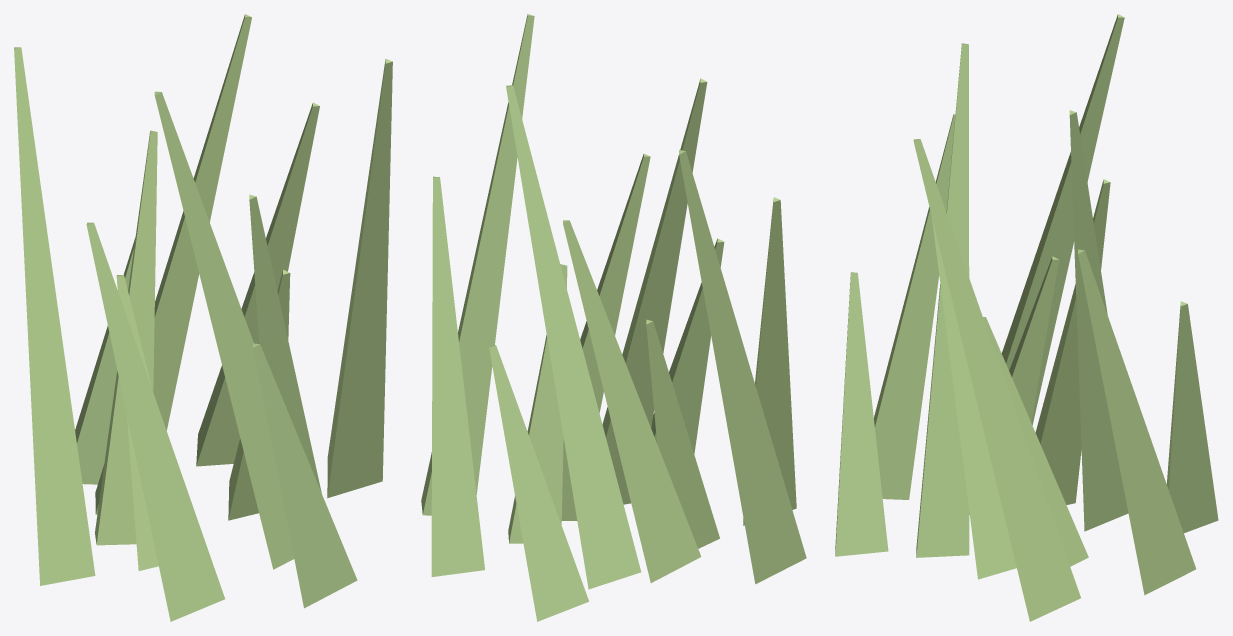
The model's file is 18_Grass_Short.glb.
The picture shows the model from 3 angles, left to right: view 1: azimuth 30°, elevation 25°; view 2: azimuth 150°, elevation 25°; view 3: azimuth 270°, elevation 25°; orthographic projection. The views are drawn at different scales.
Parts seen in each view (by area): view 1: GrassShort_Blade6, GrassShort_Blade12, GrassShort_Blade8, GrassShort_Blade9, GrassShort_Blade3, GrassShort_Blade10, GrassShort_Blade5, GrassShort_Blade2, GrassShort_Blade11, GrassShort_Blade4, GrassShort_Blade7, GrassShort_Blade1; view 2: GrassShort_Blade3, GrassShort_Blade6, GrassShort_Blade2, GrassShort_Blade5, GrassShort_Blade12, GrassShort_Blade4, GrassShort_Blade9, GrassShort_Blade8, GrassShort_Blade7, GrassShort_Blade11, GrassShort_Blade1, GrassShort_Blade10; view 3: GrassShort_Blade12, GrassShort_Blade9, GrassShort_Blade2, GrassShort_Blade8, GrassShort_Blade3, GrassShort_Blade10, GrassShort_Blade11, GrassShort_Blade6, GrassShort_Blade4, GrassShort_Blade5, GrassShort_Blade1, GrassShort_Blade7.
Boxes of the visible parts, <box> form: GrassShort_Blade6: <box>14,47,95,585</box>; GrassShort_Blade12: <box>327,59,392,498</box>; GrassShort_Blade8: <box>86,222,224,621</box>; GrassShort_Blade9: <box>154,91,294,569</box>; GrassShort_Blade3: <box>95,14,251,514</box>; GrassShort_Blade10: <box>253,343,357,608</box>; GrassShort_Blade5: <box>95,130,157,545</box>; GrassShort_Blade2: <box>196,102,319,466</box>; GrassShort_Blade11: <box>249,194,321,492</box>; GrassShort_Blade4: <box>75,237,135,484</box>; GrassShort_Blade7: <box>116,275,158,570</box>; GrassShort_Blade1: <box>228,269,290,520</box>; GrassShort_Blade3: <box>506,85,641,589</box>; GrassShort_Blade6: <box>679,150,806,584</box>; GrassShort_Blade2: <box>431,176,484,576</box>; GrassShort_Blade5: <box>563,220,701,582</box>; GrassShort_Blade12: <box>421,14,534,515</box>; GrassShort_Blade4: <box>489,345,588,621</box>; GrassShort_Blade9: <box>602,78,707,504</box>; GrassShort_Blade8: <box>743,197,796,525</box>; GrassShort_Blade7: <box>646,319,719,548</box>; GrassShort_Blade11: <box>561,153,650,520</box>; GrassShort_Blade1: <box>508,264,567,543</box>; GrassShort_Blade10: <box>651,238,724,453</box>; GrassShort_Blade12: <box>913,139,1080,621</box>; GrassShort_Blade9: <box>916,43,969,557</box>; GrassShort_Blade2: <box>1078,249,1195,595</box>; GrassShort_Blade8: <box>874,114,955,499</box>; GrassShort_Blade3: <box>1069,110,1128,531</box>; GrassShort_Blade10: <box>835,272,888,556</box>; GrassShort_Blade11: <box>932,218,1016,579</box>; GrassShort_Blade6: <box>1001,14,1124,425</box>; GrassShort_Blade4: <box>1166,301,1218,533</box>; GrassShort_Blade5: <box>1035,179,1110,504</box>; GrassShort_Blade1: <box>983,317,1088,566</box>; GrassShort_Blade7: <box>969,256,1059,514</box>.
Size of the model in its own units: 0.1748 by 0.2186 by 0.1625.
